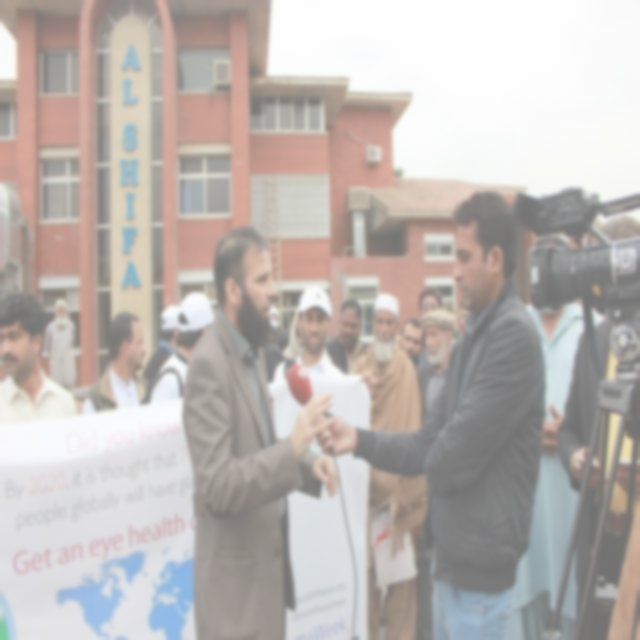pessoa: (300, 186, 548, 640), (181, 223, 336, 640), (510, 235, 602, 640), (554, 213, 640, 640), (352, 294, 420, 636), (414, 308, 458, 640), (0, 293, 78, 423), (141, 290, 217, 409), (143, 302, 207, 433), (272, 284, 346, 394), (80, 309, 152, 416), (324, 296, 372, 388), (418, 284, 460, 366), (42, 298, 77, 396), (258, 298, 300, 378), (401, 318, 424, 370), (460, 301, 475, 331)
